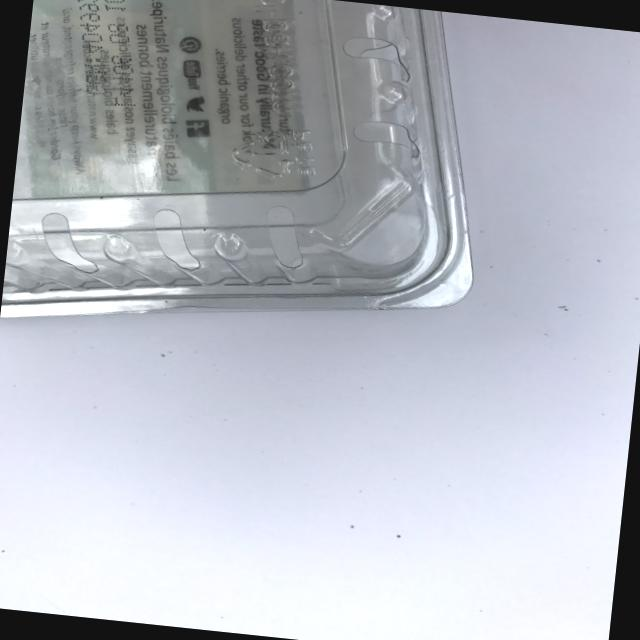Plastic: (0, 0, 535, 382)
